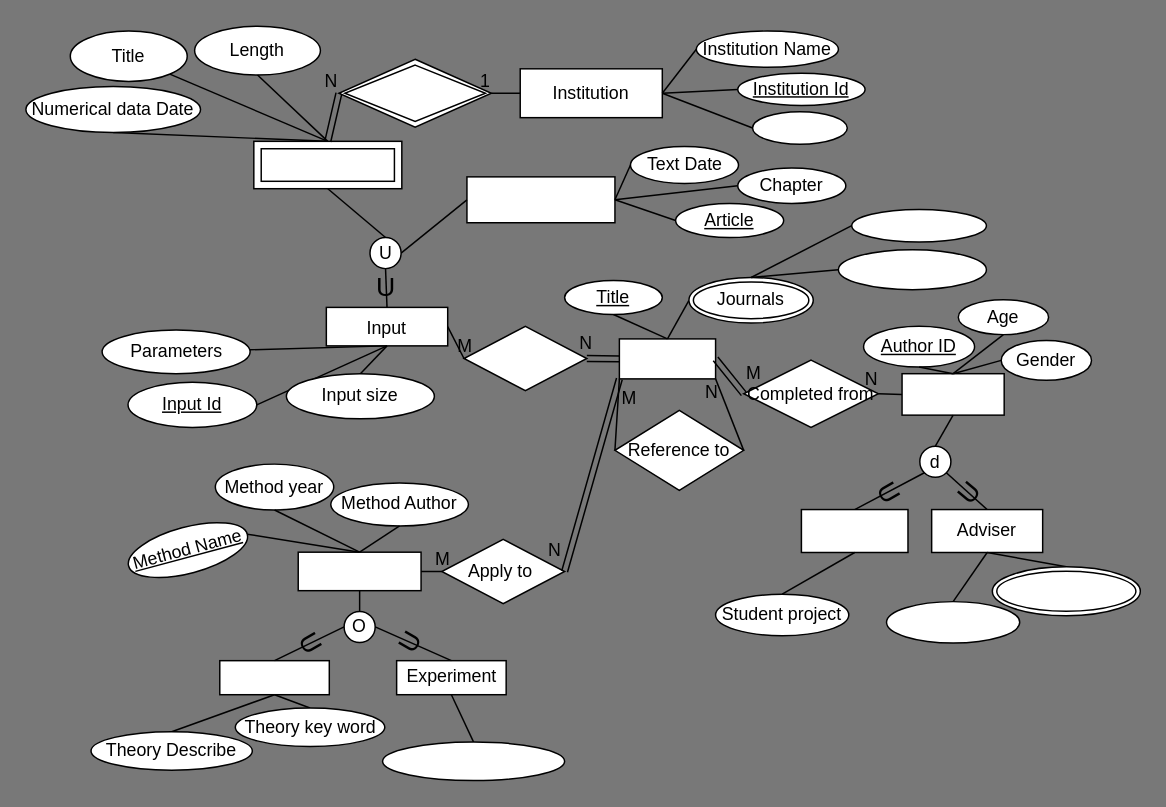
Some shapes in this 1166 by 807 pixel diagram are drawn without their labels. Each missing label, with the centre of its shape:
"Adviser dept" goes at (952,621).
"Adviser major" goes at (1065,590).
"Author" goes at (952,393).
"Comes from" goes at (414,92).
"Experiment tool" goes at (473,761).
"Field" goes at (799,127).
"Journals Name" goes at (911,269).
"Journals Score" goes at (918,225).
"method" goes at (359,571).
"Numerical data" goes at (327,164).
"Student" goes at (854,530).
"Study" goes at (667,358).
"Text" goes at (540,199).
"Theory" goes at (273,677).
"Used in" goes at (524,358).
